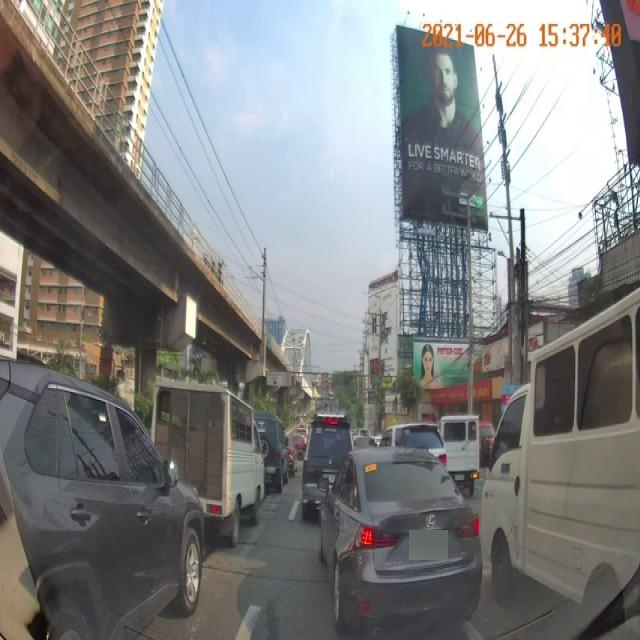car: (476, 310, 640, 630), (0, 380, 197, 635), (319, 448, 476, 640), (152, 377, 266, 526), (298, 410, 358, 524)
